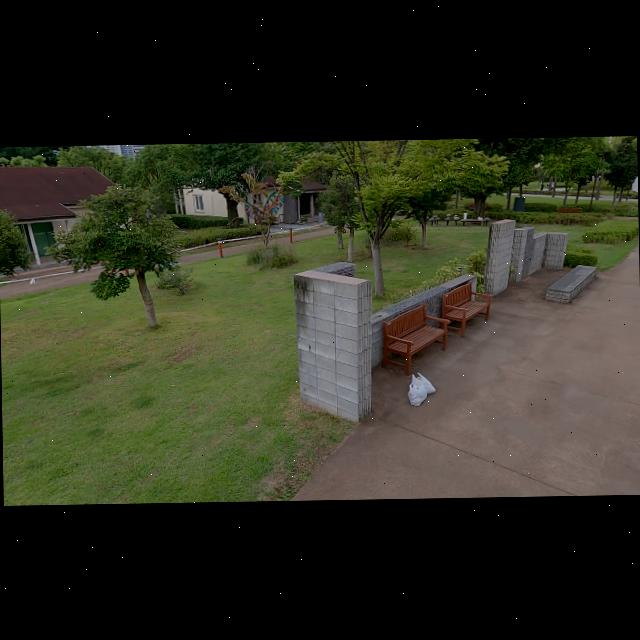trash: (410, 368, 438, 394), (408, 381, 427, 406)
